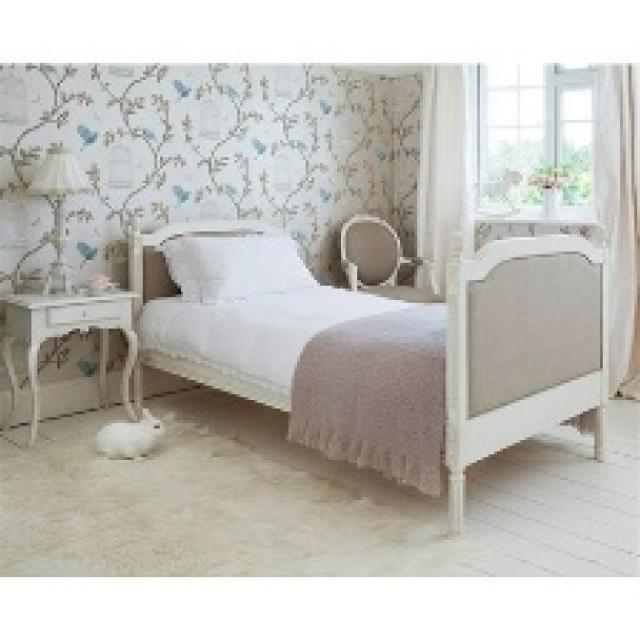Bed: (123, 215, 608, 534)
